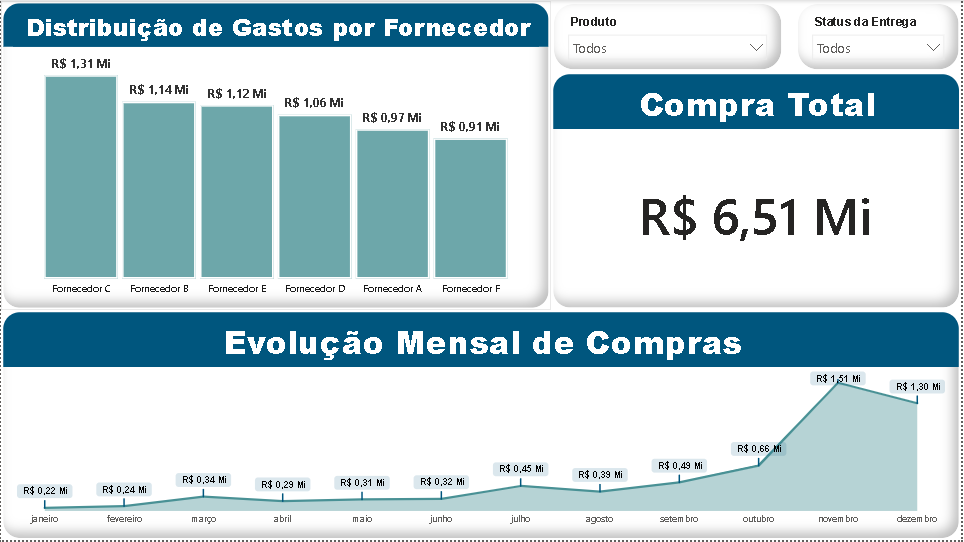

This screenshot's page, from the dashboard's own definition file:
{"tool":"powerbi","page":{"name":"Página 1","canvas":[1280,720],"ordinal":0},"visuals":[{"type":"cardVisual","title":"Compra Total","fields":{"Data":["Sum(Base de Dados Original.Valor Total (R$))"]},"box":[733.3,96,546.7,317.3],"z":0},{"type":"clusteredColumnChart","title":"Distribuição de Gastos por Fornecedor","fields":{"Y":["Sum(Base de Dados Original.Valor Total (R$))"],"Category":["Base de Dados Original.Fornecedor"]},"box":[0,1.3,733.3,412],"z":1000},{"type":"areaChart","title":"Evolução Mensal de Compras","fields":{"Category":["Base de Dados Original.Data da Compra.Variation.Hierarquia de datas.Mês"],"Y":["Sum(Base de Dados Original.Valor Total (R$))"]},"box":[0,412.9,1280,306.9],"z":2000},{"type":"slicer","fields":{"Values":["Base de Dados Original.Produto"]},"box":[733.6,1.4,311.1,95],"z":3000},{"type":"slicer","fields":{"Values":["Base de Dados Original.Status da Entrega"]},"box":[1058.4,1.4,221.6,95],"z":4000}]}

Visuals, with their boxes in screenshot pixels (x1, y1, x2, y2), scaled from the page's 1280x720 canvas onto the 964x542 screenshot:
"Compra Total" cardVisual: {"x1": 552, "y1": 72, "x2": 963, "y2": 311}
"Distribuição de Gastos por Fornecedor" clusteredColumnChart: {"x1": 0, "y1": 1, "x2": 552, "y2": 311}
"Evolução Mensal de Compras" areaChart: {"x1": 0, "y1": 311, "x2": 963, "y2": 541}
slicer - Base de Dados Original.Produto: {"x1": 552, "y1": 1, "x2": 787, "y2": 73}
slicer - Base de Dados Original.Status da Entrega: {"x1": 797, "y1": 1, "x2": 963, "y2": 73}
